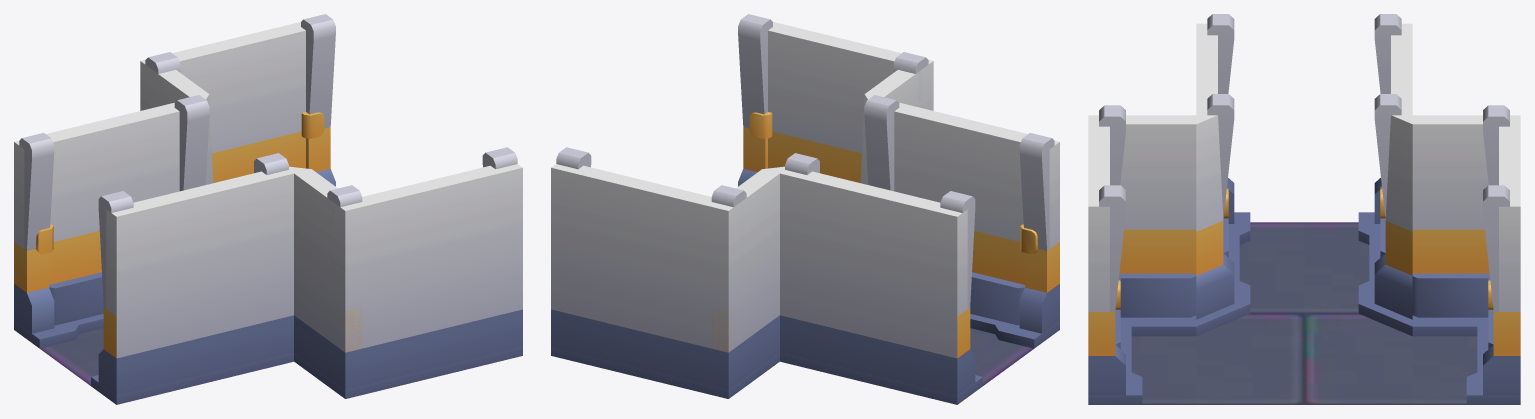
The model's file is corridor-transition.glb.
The picture shows the model from 3 angles, left to right: view 1: azimuth 30°, elevation 25°; view 2: azimuth 150°, elevation 25°; view 3: azimuth 270°, elevation 25°; orthographic projection. The views are drawn at different scales.
Visible parts, largest first — view 1: corridor-transition; view 2: corridor-transition; view 3: corridor-transition.
Part boxes in pixels (left/top/right/bottom): corridor-transition: left=14, top=14, right=522, bottom=404; corridor-transition: left=551, top=14, right=1059, bottom=404; corridor-transition: left=1088, top=14, right=1520, bottom=404.
Size of the model in its own units: 8 by 4.25 by 8.
Materials: 1 (1 with a texture image).
